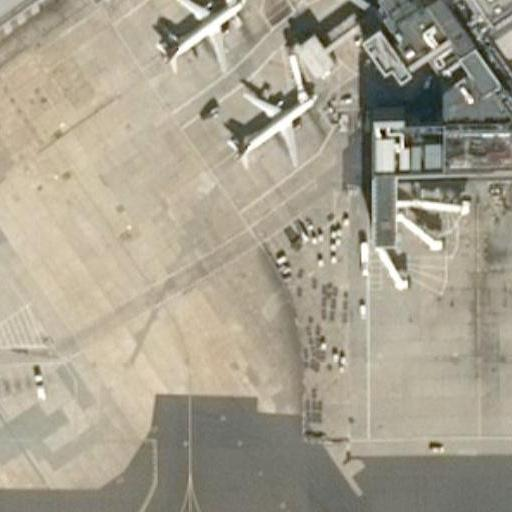Aircraft: (218, 79, 320, 173), (150, 0, 249, 69)
